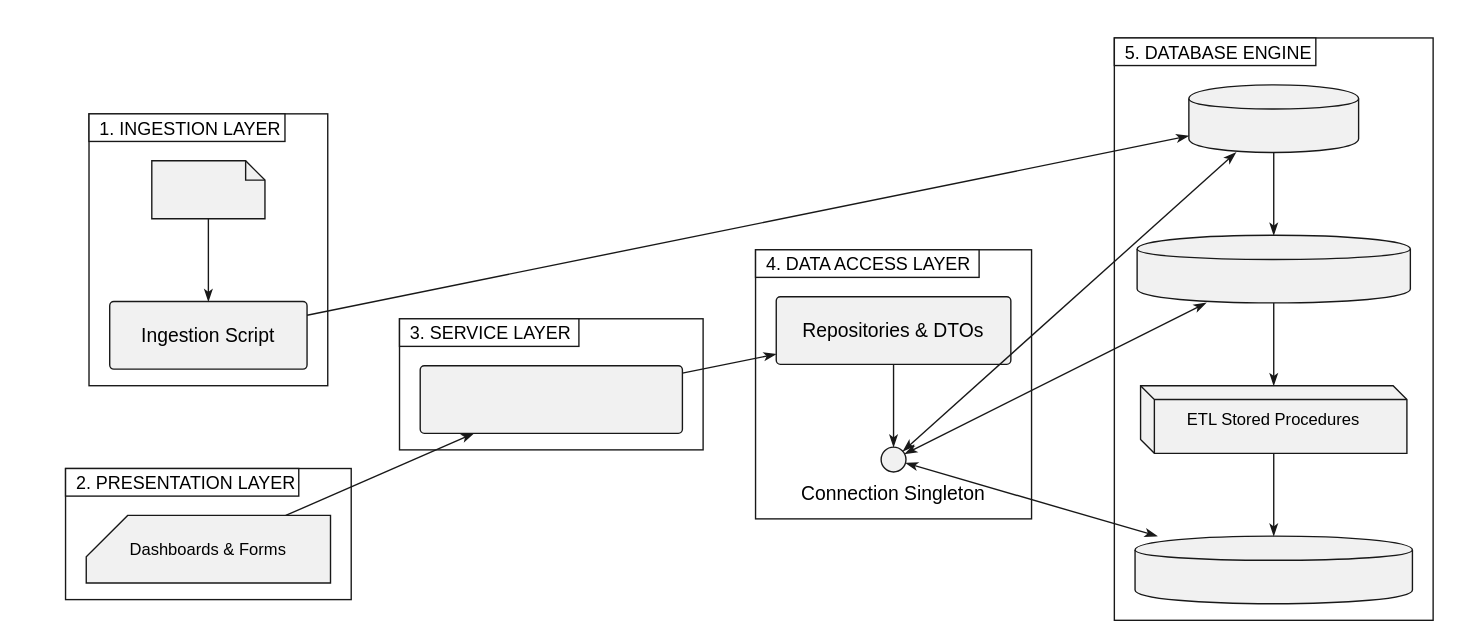
Image size: 1457x644. Some labels were removed from this diagram. The shapes that lost their labels are listed below. From the top down, each one's box as (x1, y1, x2, y2) in pixels, then its label:
(1187, 83, 1359, 152): Staging Area
(150, 159, 265, 219): CSV File
(1136, 234, 1410, 303): 3NF Operational Schema
(419, 364, 682, 433): Business Logic & Rules
(1134, 535, 1412, 604): Star Schema Warehouse
